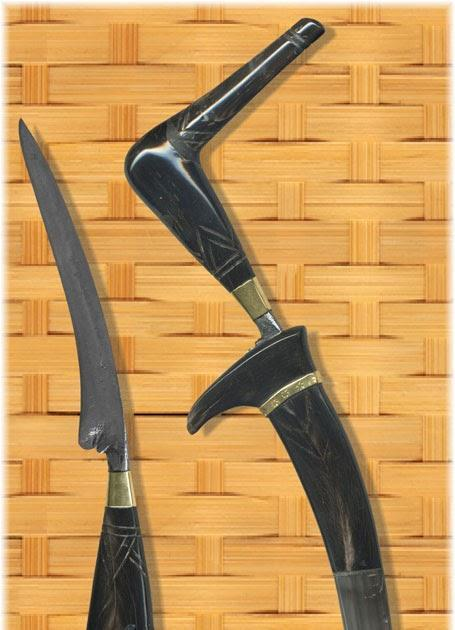espada: (125, 18, 390, 629), (19, 120, 153, 629)
